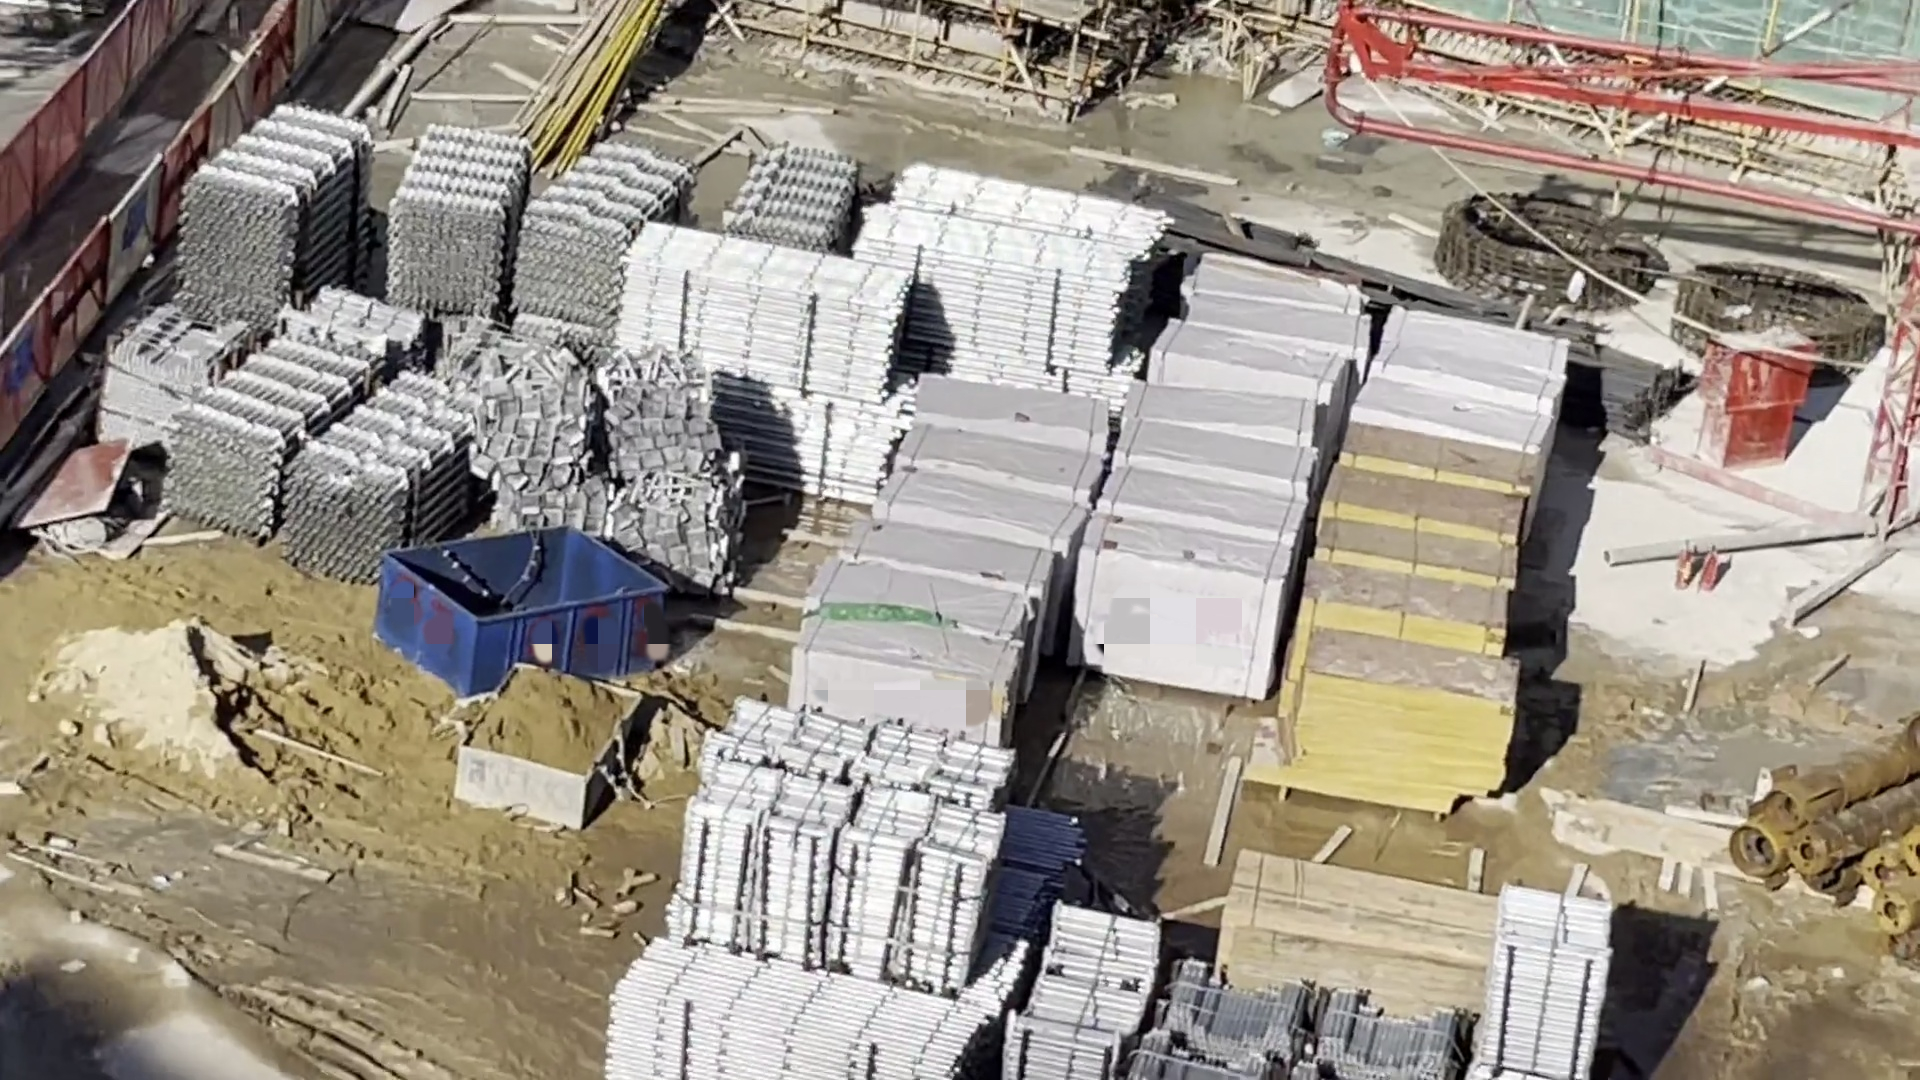board: (1316, 637, 1509, 782), (1288, 593, 1509, 654), (1338, 469, 1511, 517), (1305, 527, 1495, 564)
fence: (70, 1, 324, 87), (1, 141, 79, 367)
hopper: (411, 520, 644, 692)
rebar: (1739, 655, 1920, 971), (1143, 196, 1353, 284), (1568, 328, 1662, 440)
scaffold: (705, 687, 967, 942), (589, 926, 989, 1079), (609, 199, 864, 376), (189, 62, 373, 302), (208, 306, 373, 545), (891, 132, 1076, 331), (291, 378, 483, 568), (1038, 794, 1168, 1064), (94, 299, 278, 469), (392, 146, 568, 301), (1501, 877, 1626, 1080), (738, 351, 872, 502), (1160, 971, 1344, 1080), (516, 162, 608, 361), (704, 177, 764, 227)
wood: (1244, 847, 1484, 1058)
